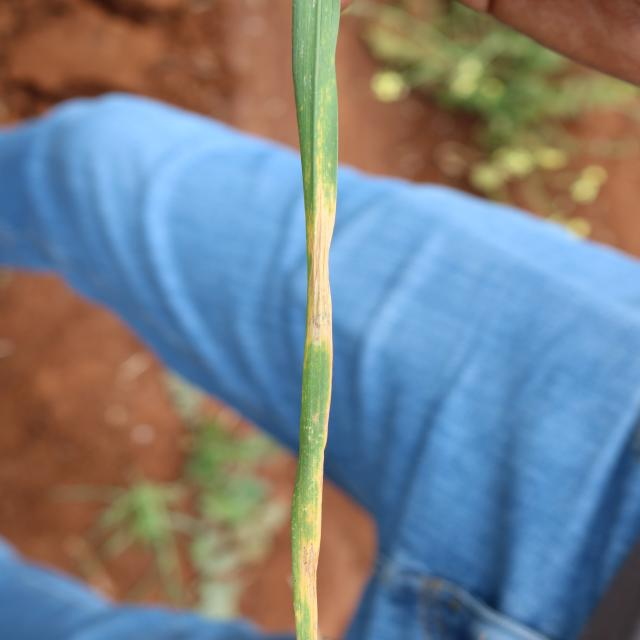Septoria: (308, 190, 331, 346)
